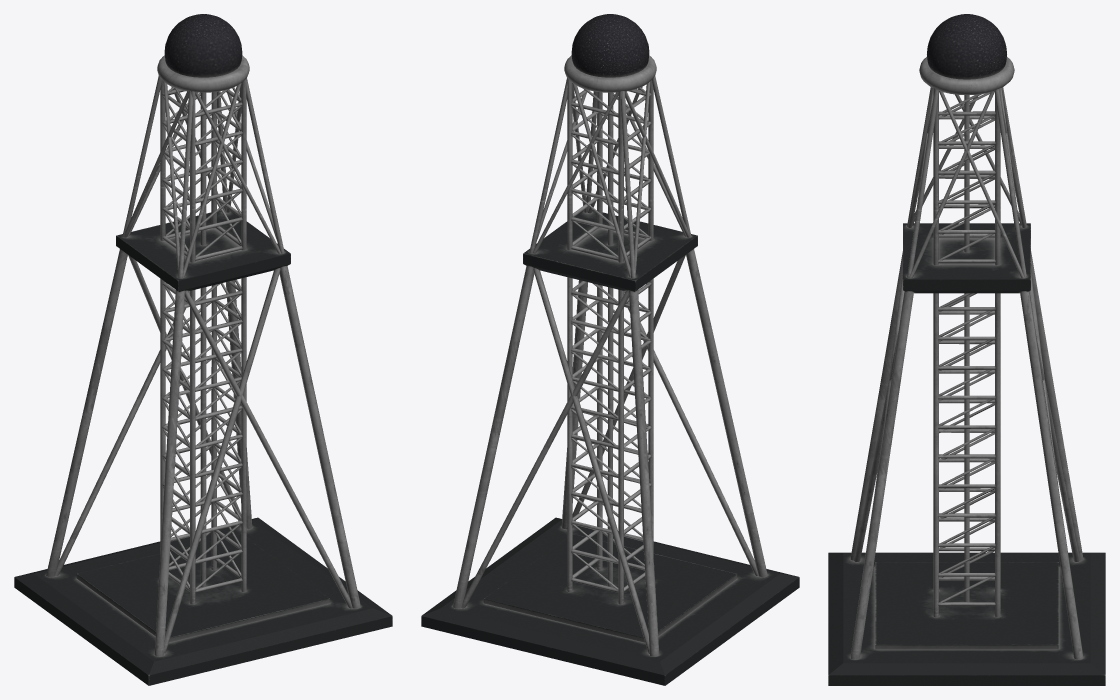
File: SM_NRT_RadioTower_A.fbx
The picture shows the model from 3 angles, left to right: view 1: azimuth 30°, elevation 25°; view 2: azimuth 150°, elevation 25°; view 3: azimuth 270°, elevation 25°; orthographic projection. The views are drawn at different scales.
Parts seen in each view (by area): view 1: SM_NRT_RadioTower_A_LOD0; view 2: SM_NRT_RadioTower_A_LOD0; view 3: SM_NRT_RadioTower_A_LOD0.
Boxes of the visible parts, <box> form: SM_NRT_RadioTower_A_LOD0: <box>14,14,392,685</box>; SM_NRT_RadioTower_A_LOD0: <box>421,14,799,685</box>; SM_NRT_RadioTower_A_LOD0: <box>828,14,1105,685</box>.
Bounding box in the file's own units: 607 × 580 × 1401.
1 material, 1 textured.
